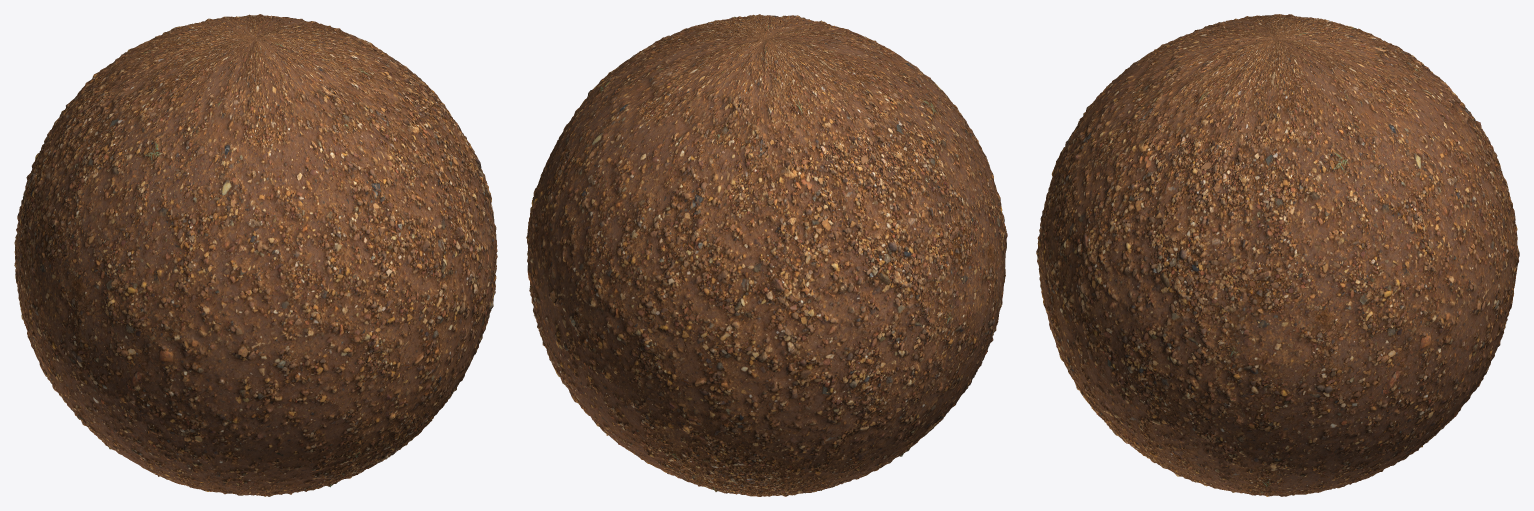
File: red_dirt_mud_01_1k.gltf
3 views of the same model, side by side, from view 1: azimuth 30°, elevation 25°; view 2: azimuth 150°, elevation 25°; view 3: azimuth 270°, elevation 25° (orthographic).
Visible parts, largest first — view 1: sphere_gltf.001; view 2: sphere_gltf.001; view 3: sphere_gltf.001.
Boxes of the visible parts, left/top/right/bottom form: sphere_gltf.001: left=14, top=14, right=497, bottom=496; sphere_gltf.001: left=526, top=14, right=1007, bottom=496; sphere_gltf.001: left=1036, top=14, right=1519, bottom=496.
Bounding box in the file's own units: 1.54 × 1.54 × 1.54.
1 material, 1 textured.
